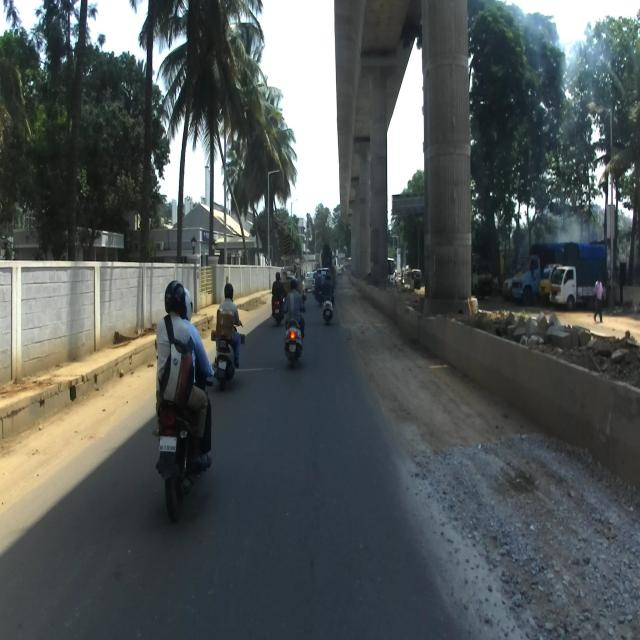motorcycle: (152, 357, 218, 522)
scooter: (211, 321, 243, 392), (282, 294, 307, 365)
truck: (549, 239, 607, 311)
